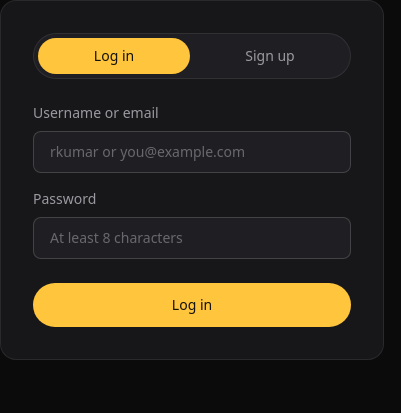
it: AuthCard › shows a retryable authentication error
The width and height of the screenshot is (401, 413).
Type "alice" into the field labelled "Username or email" at x=192, y=152, box [33,131,351,173]
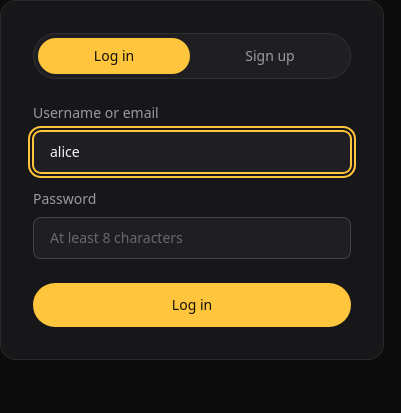
Type "password123" into the password field labelled "Password" at x=192, y=238, box [33,217,351,259]
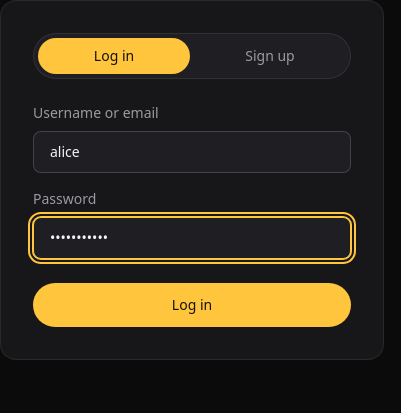
Click the button "Log in" below "Password" at x=192, y=305, box [33,283,351,327]
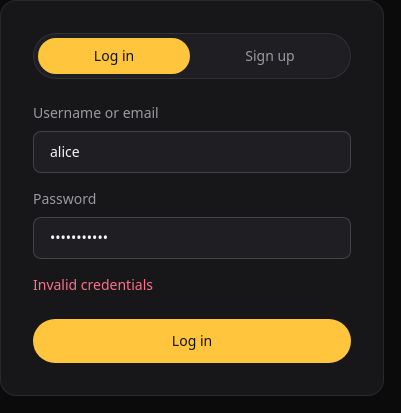
Now the text "Invalid credentials" is shown, box [33,275,153,294]
